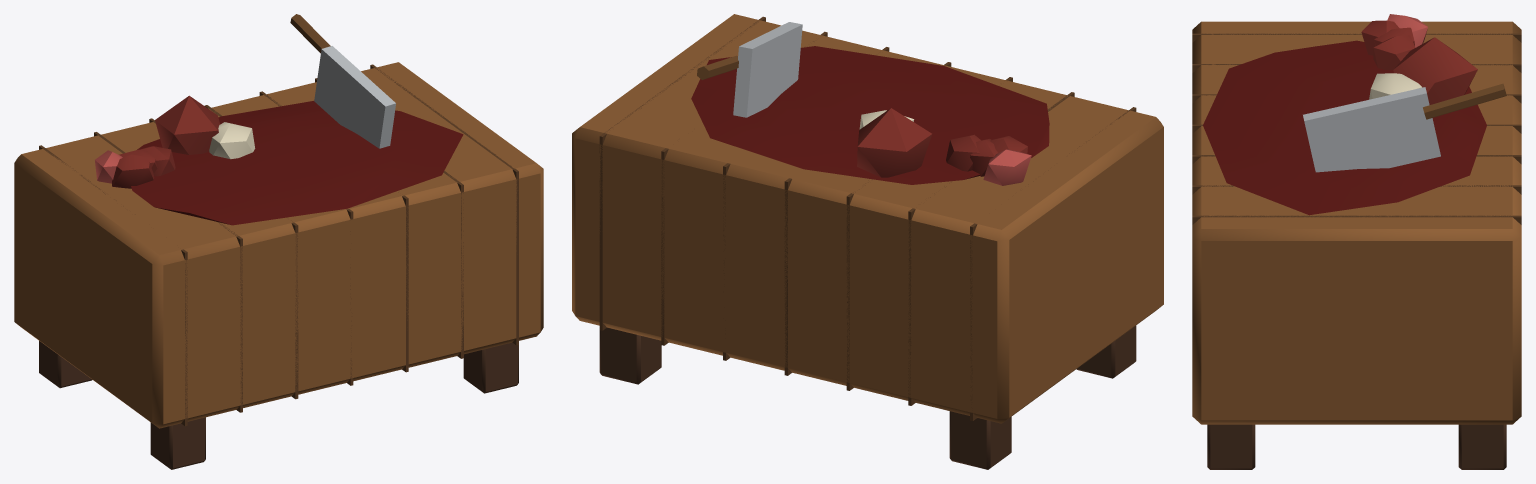
Rendered from butcher_block.glb.
The picture shows the model from 3 angles, left to right: view 1: azimuth 30°, elevation 25°; view 2: azimuth 150°, elevation 25°; view 3: azimuth 270°, elevation 25°; orthographic projection. The views are drawn at different scales.
Parts seen in each view (by area): view 1: butcher_block; view 2: butcher_block; view 3: butcher_block.
Boxes of the visible parts, box(x1,y1,x2,y2) form: butcher_block: box(14, 14, 543, 469); butcher_block: box(572, 14, 1163, 469); butcher_block: box(1192, 14, 1521, 469).
Size of the model in its own units: 1.7 by 1.24 by 1.1.
